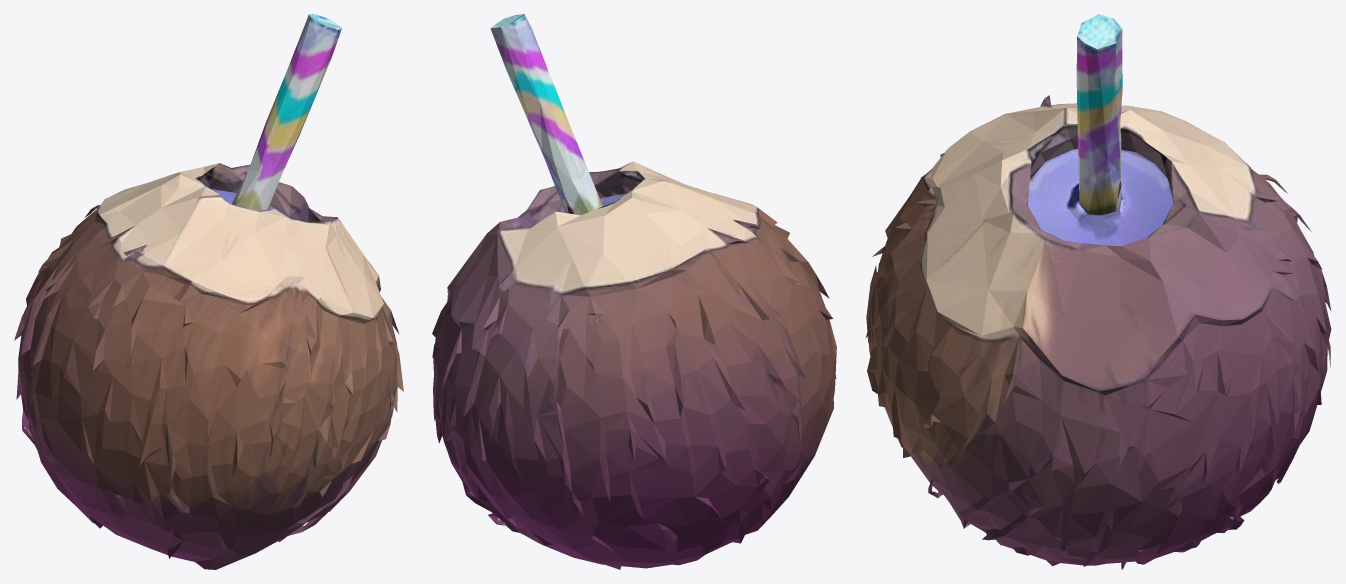
File: coconut.glb
3 views of the same model, side by side, from view 1: azimuth 30°, elevation 25°; view 2: azimuth 150°, elevation 25°; view 3: azimuth 270°, elevation 25° (orthographic). The views are drawn at different scales.
Visible parts, largest first — view 1: tmpko7kgj0q.ply; view 2: tmpko7kgj0q.ply; view 3: tmpko7kgj0q.ply.
Boxes of the visible parts, x1=… form: tmpko7kgj0q.ply: x1=14, y1=14, x2=403, y2=569; tmpko7kgj0q.ply: x1=432, y1=14, x2=836, y2=569; tmpko7kgj0q.ply: x1=865, y1=14, x2=1331, y2=569.
Bounding box in the file's own units: 1.46 × 1.99 × 1.42.
Materials: 1 (1 with a texture image).
